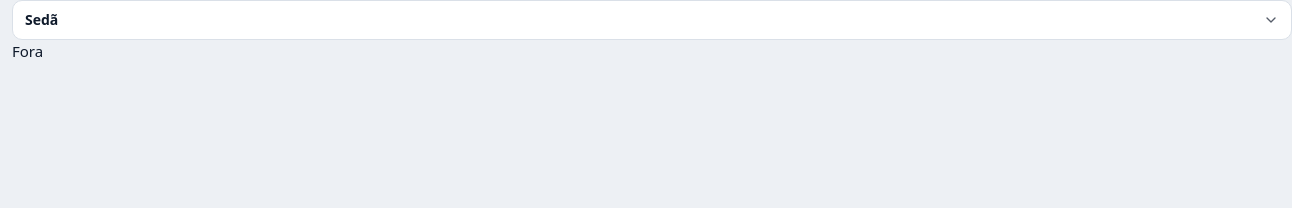
Selecao › fecha pelo próprio campo, ao tocar fora e ao perder o foco
The width and height of the screenshot is (1292, 208).
Click the dropdown named "Carroceria": (652, 20) [12,0,1291,40]
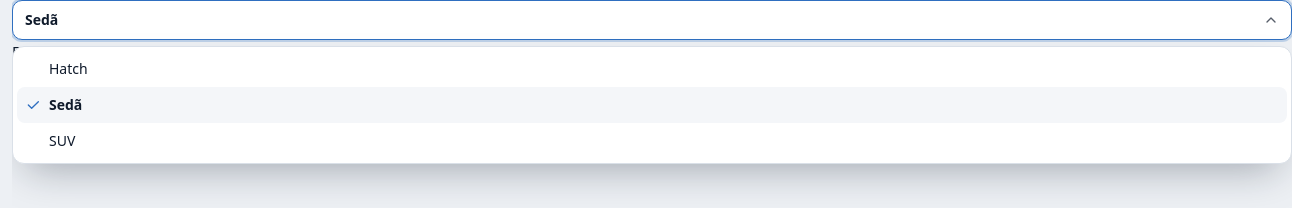
Click the dropdown named "Carroceria": (652, 20) [12,0,1291,40]
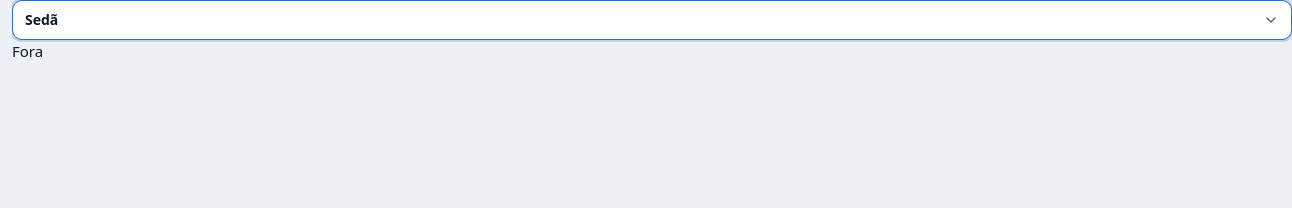
Now the dropdown named "Carroceria" is collapsed
Click the dropdown named "Carroceria": (652, 20) [12,0,1291,40]
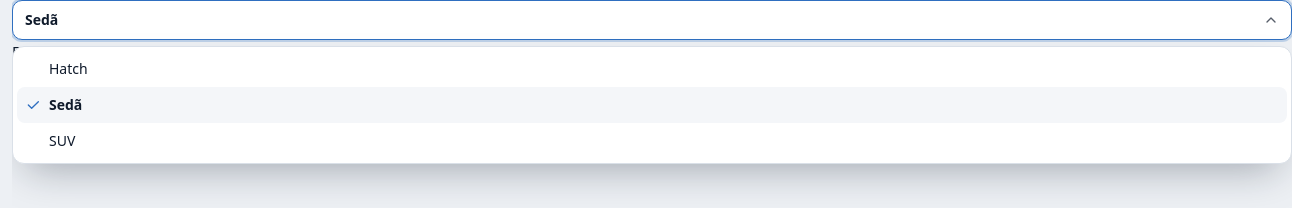
Press the mouse on the option "Hatch": (68, 68) [49,59,88,78]
Now the dropdown named "Carroceria" is expanded, box [12,0,1291,40]
Press the mouse on the element showing "Sedã Hatch Sedã SUV Fora": (652, 31) [12,0,1291,62]
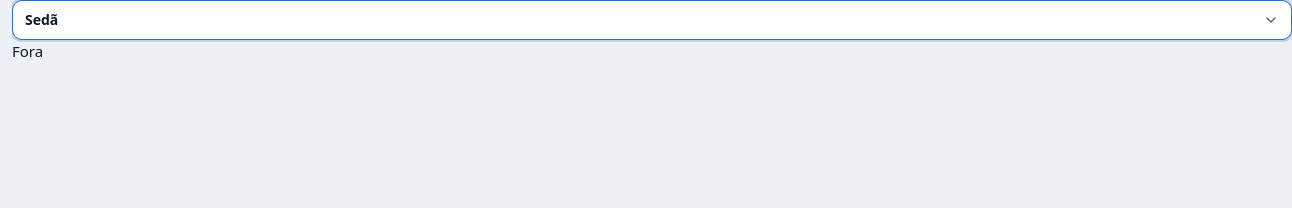
Now the dropdown named "Carroceria" is collapsed
Click the dropdown named "Carroceria": (652, 20) [12,0,1291,40]
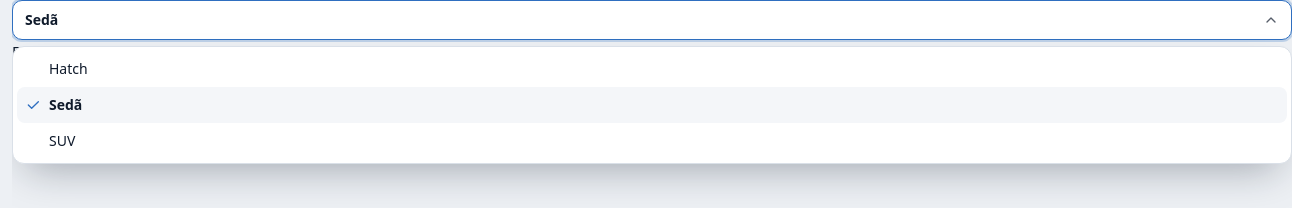
Press Tab
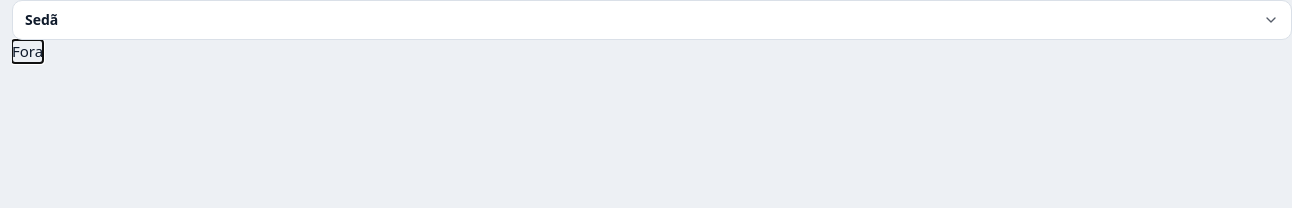
Now the dropdown named "Carroceria" is collapsed, box [12,0,1291,40]
